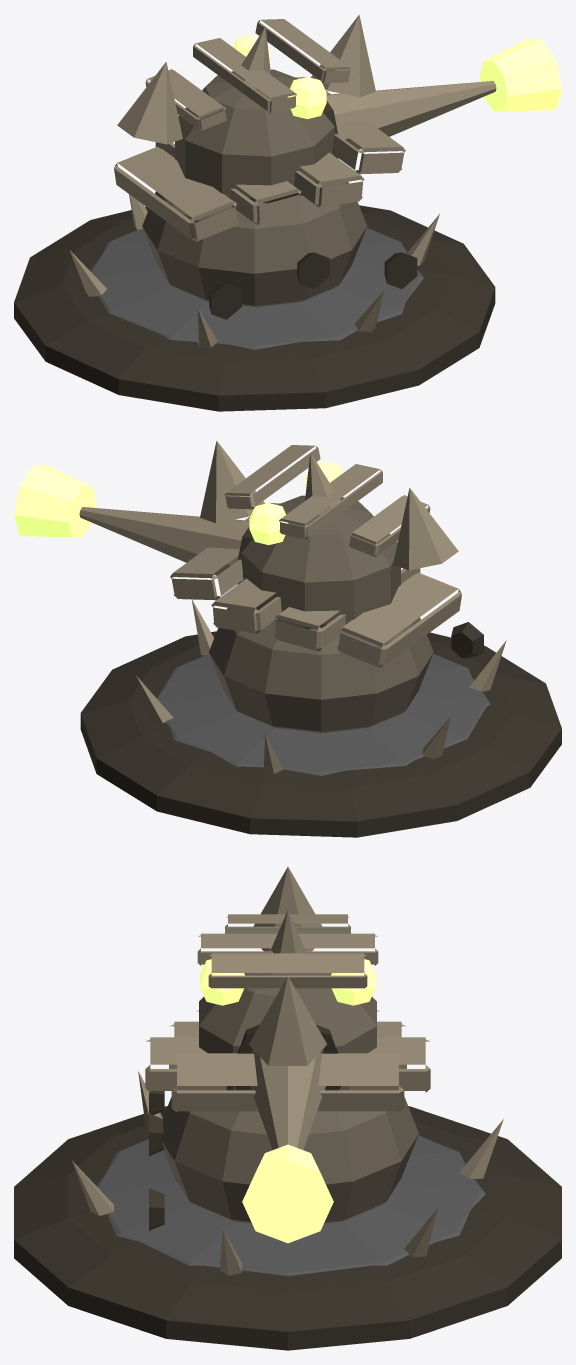
Rendered from bl_thorn.glb.
3 views of the same model, one above another, from view 1: azimuth 30°, elevation 25°; view 2: azimuth 150°, elevation 25°; view 3: azimuth 270°, elevation 25° (orthographic). The views are drawn at different scales.
Visible parts, largest first — view 1: body, turret; view 2: body, turret; view 3: body, turret.
Part boxes in pixels (bbox=[...]): body: bbox=[14, 77, 495, 411]; turret: bbox=[117, 15, 561, 203]; body: bbox=[80, 503, 561, 837]; turret: bbox=[14, 441, 458, 629]; body: bbox=[14, 1010, 561, 1350]; turret: bbox=[197, 867, 378, 1243].
Bounding box in the file's own units: 32.61 × 19.44 × 26.77.
